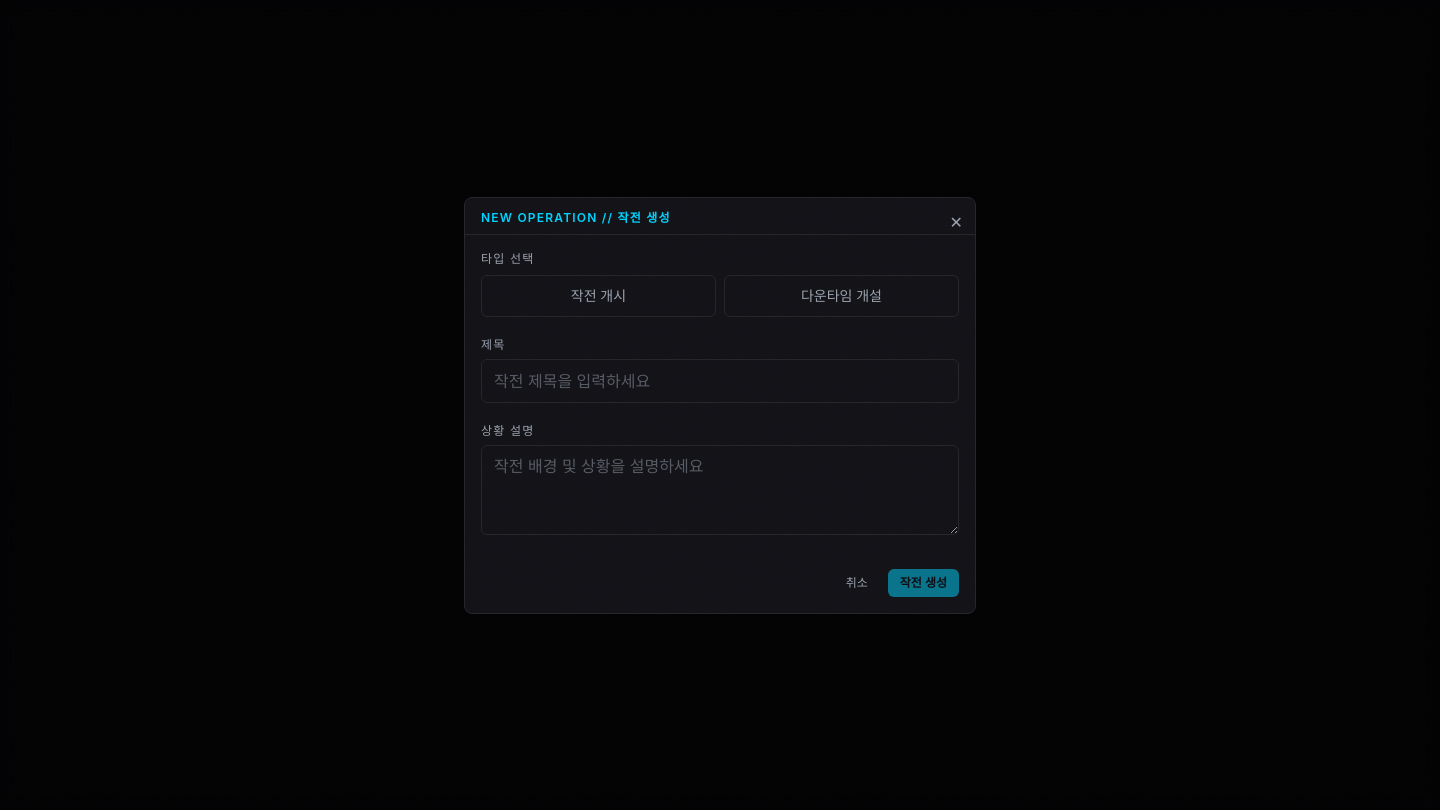
Test: CreateOperationModal › '작전 개시' 선택 시 아군/적군 필드를 표시한다
The image size is (1440, 810).
What coordinates should you click on to do the following:
click the button "작전 개시"
I would click on:
 (598, 296)
Its box is [481,274,716,316].
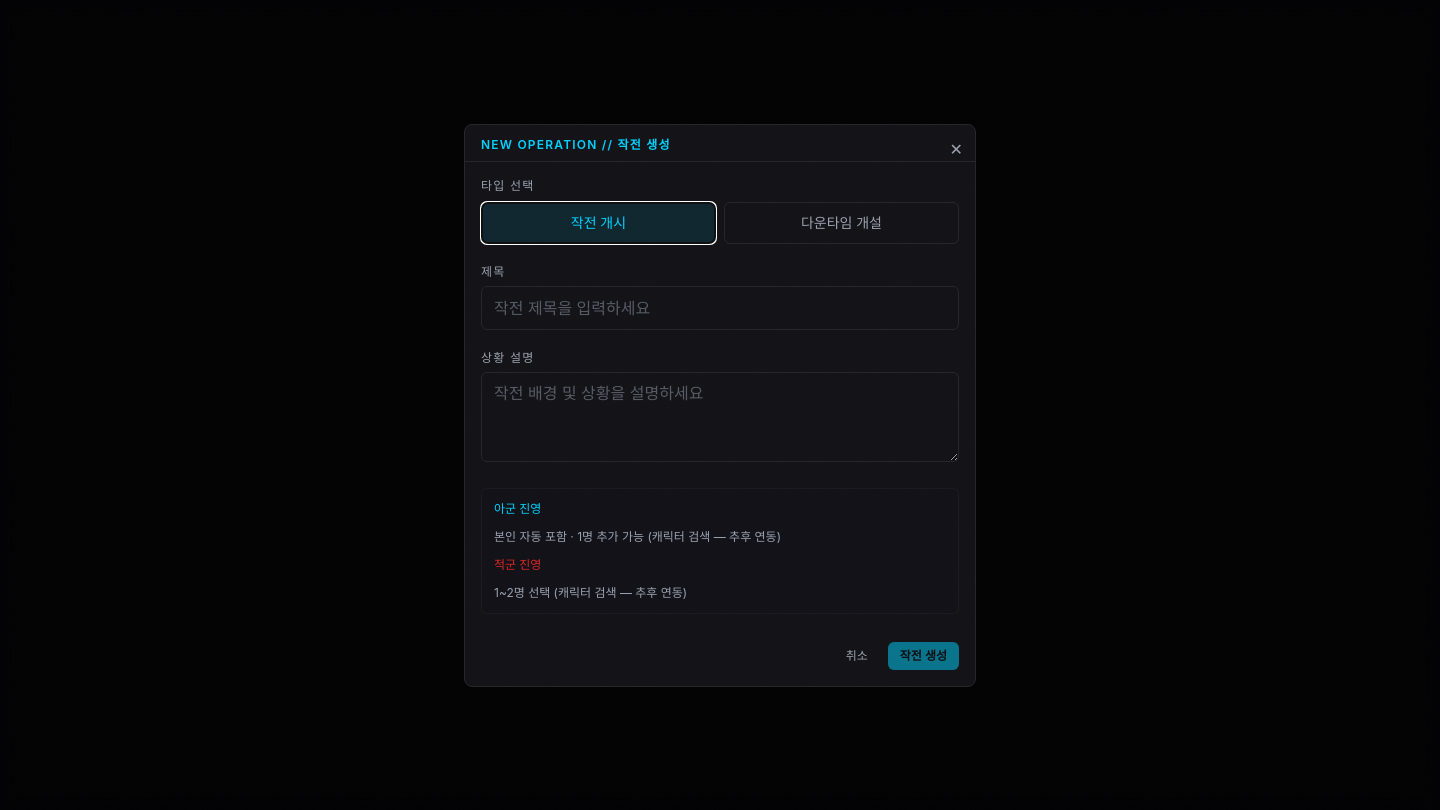
Expected: the text "아군 진영" is shown, [494,500,541,516]
Expected: the text "적군 진영" is shown, [494,556,541,572]
